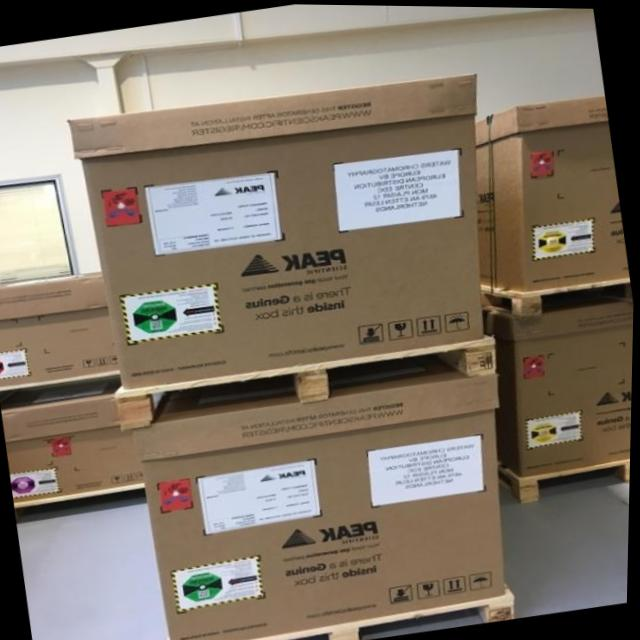box: (72, 74, 486, 390), (135, 353, 509, 640), (478, 95, 631, 290), (495, 300, 635, 476), (2, 375, 145, 502), (0, 270, 119, 388)
